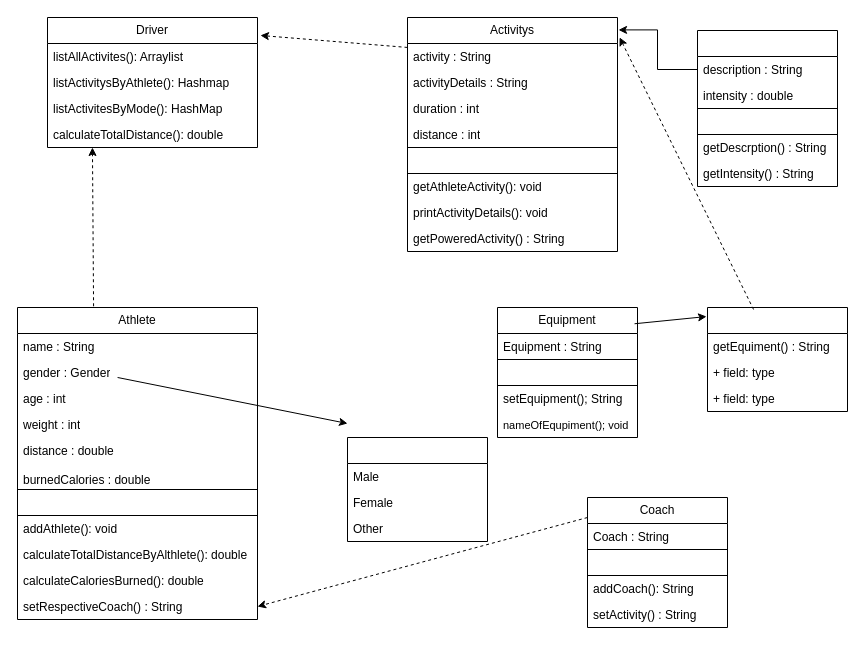
Some shapes in this 865 by 648 pixel diagram are drawn without their labels. Here are the shapes that lost their labels. From the top down, the box of each, then its label:
(696, 30, 838, 186): Mode(enum)
(706, 306, 848, 412): PoweredActivitys
(346, 436, 488, 542): Gender(enum)
